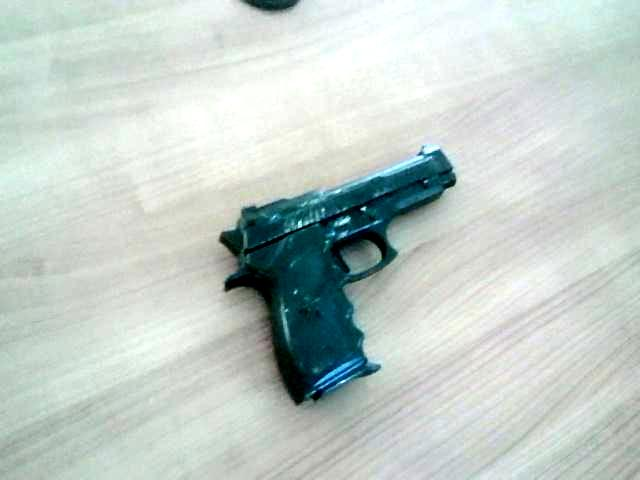pistol: (209, 157, 539, 454)
